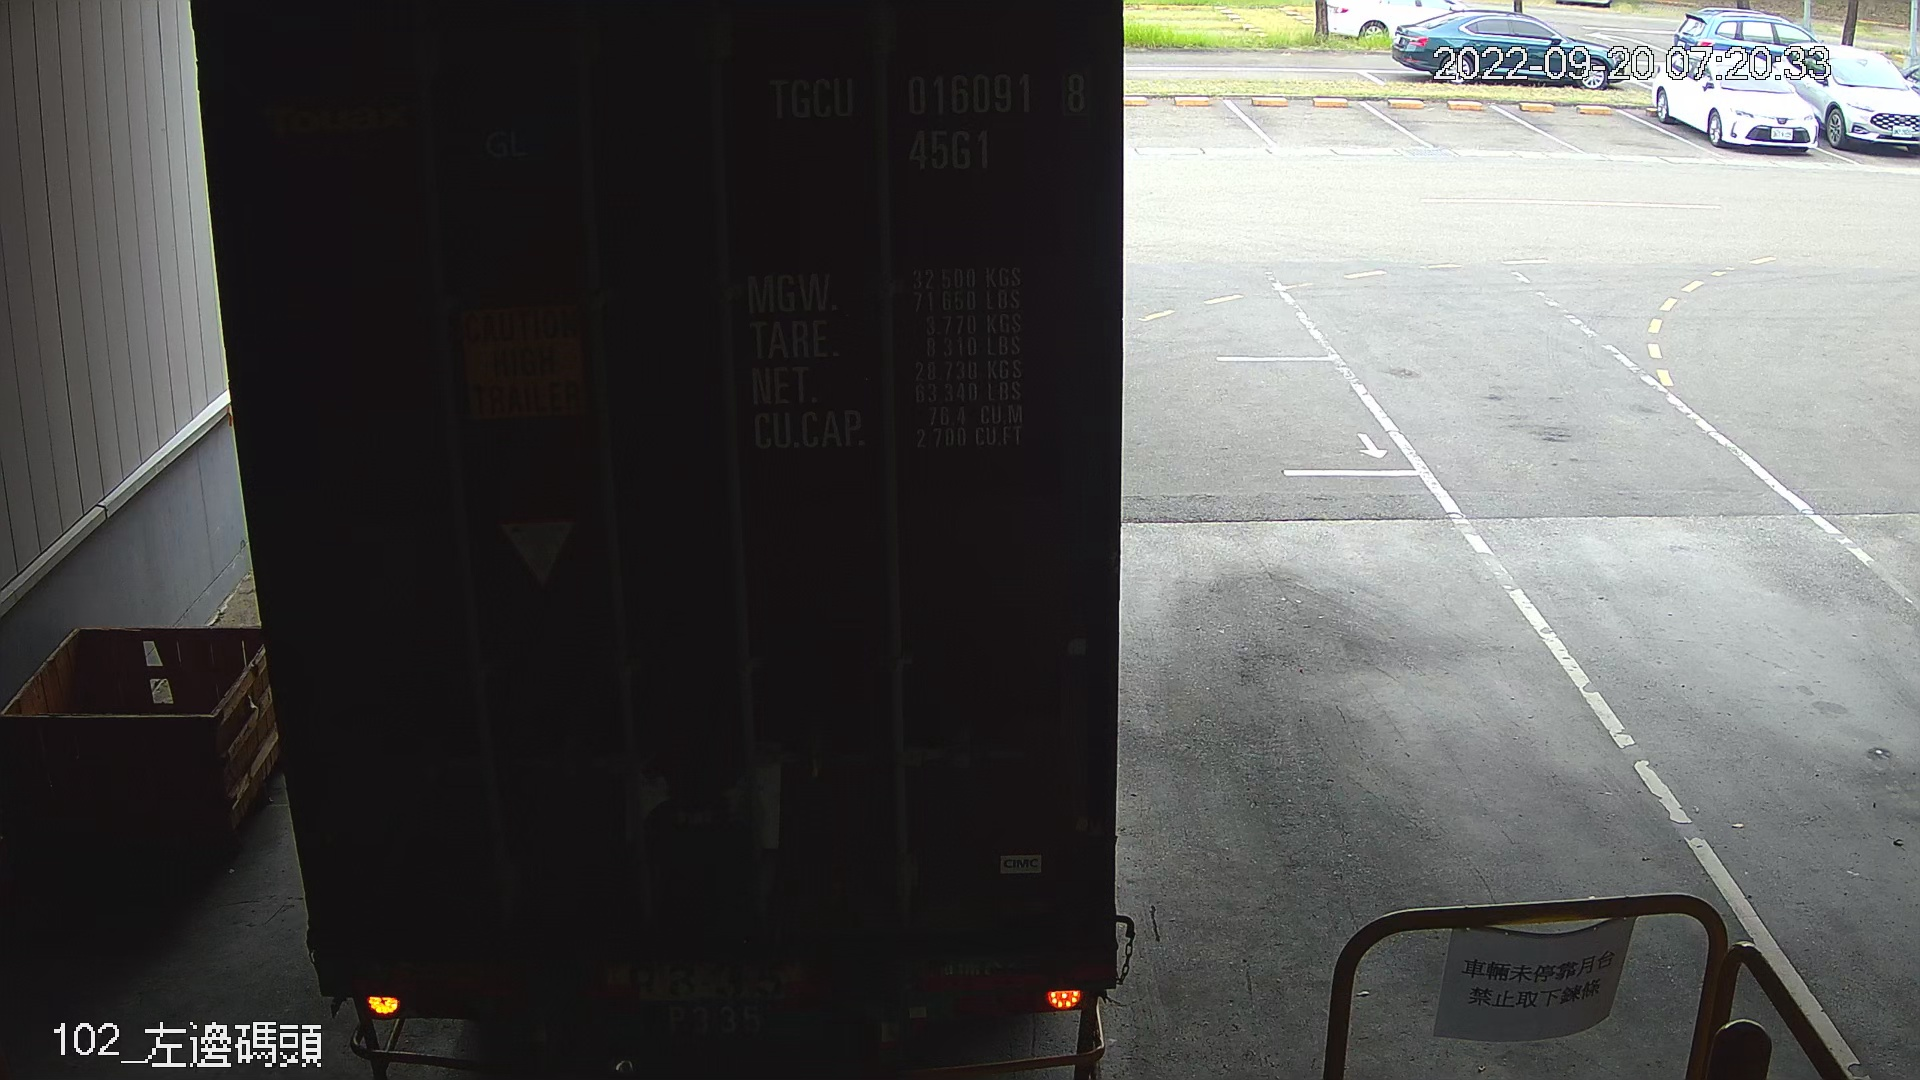container: (756, 65, 1104, 183)
